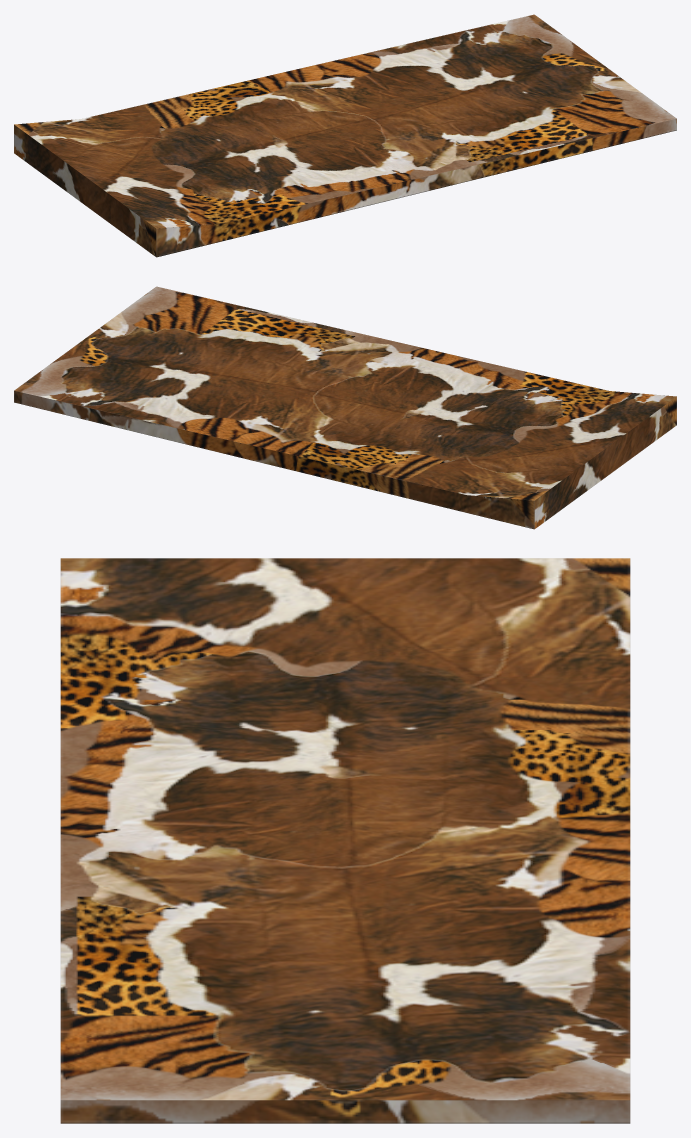
Rendered from BedSkin.FBX.
3 views of the same model, one above another, from view 1: azimuth 30°, elevation 25°; view 2: azimuth 150°, elevation 25°; view 3: azimuth 270°, elevation 25° (orthographic). The views are drawn at different scales.
Parts seen in each view (by area): view 1: Box013; view 2: Box013; view 3: Box013.
Boxes of the visible parts, x1,y1,x2,y2 form: Box013: (14, 14, 676, 257); Box013: (14, 286, 676, 529); Box013: (60, 558, 630, 1123).
Size of the model in its own units: 2.32 by 0.1226 by 1.1.
